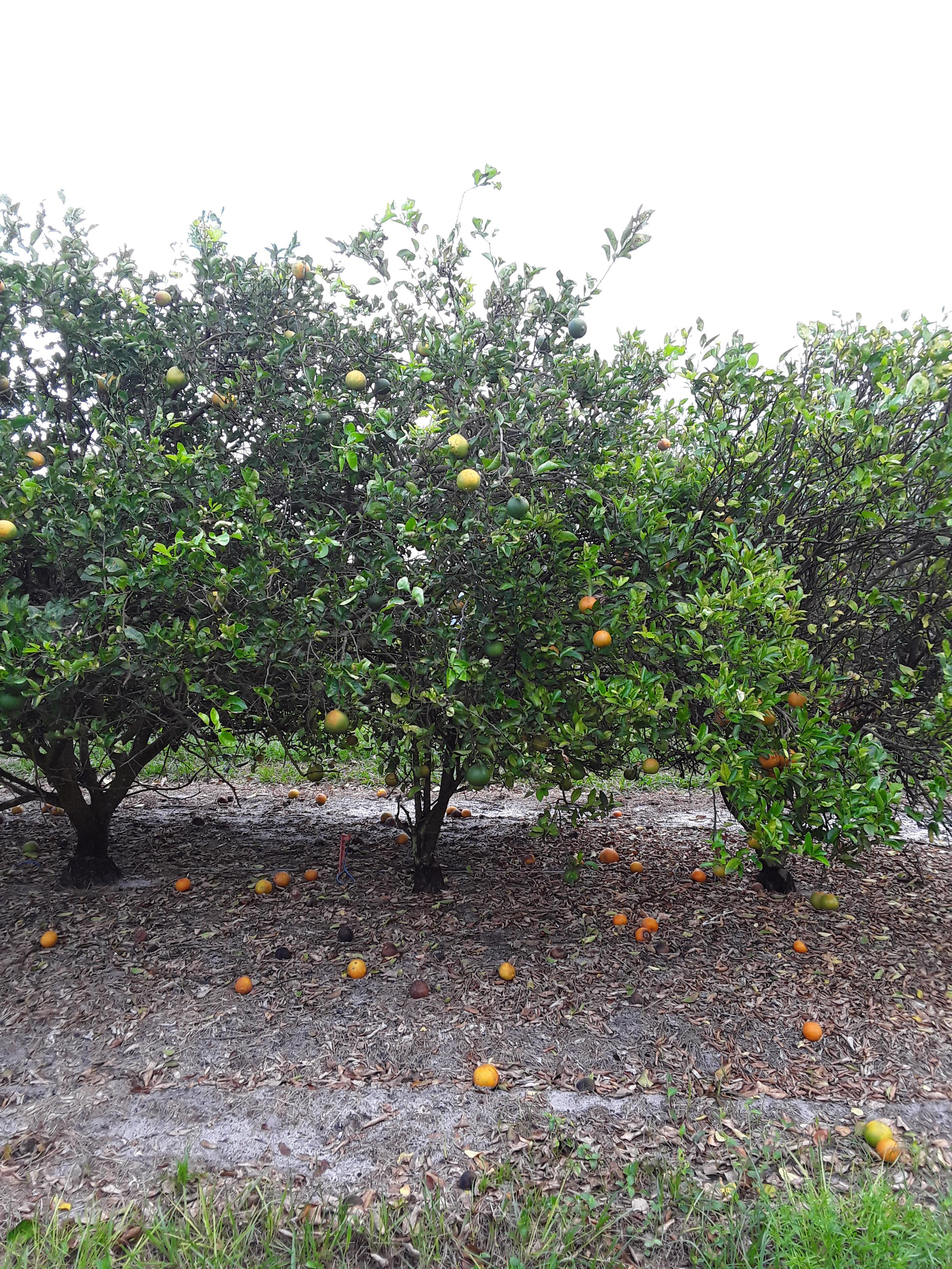fruit_on_ground: (322, 707, 350, 736), (94, 368, 123, 395), (445, 432, 472, 460), (505, 493, 532, 521), (772, 746, 800, 772), (454, 467, 482, 493), (710, 702, 738, 727), (465, 762, 491, 788), (287, 257, 313, 282), (164, 364, 189, 390), (343, 367, 368, 392), (212, 388, 239, 411), (1, 689, 25, 714), (21, 447, 47, 470), (754, 749, 782, 770), (577, 593, 601, 616), (0, 516, 19, 544), (567, 316, 590, 339), (483, 637, 506, 660), (447, 595, 469, 616), (744, 829, 766, 850), (412, 336, 434, 357), (591, 628, 614, 648), (819, 892, 840, 913), (151, 288, 173, 308), (532, 334, 554, 354), (365, 591, 386, 611), (530, 733, 551, 753), (758, 707, 779, 727), (640, 755, 661, 775), (786, 689, 807, 709), (209, 387, 229, 407), (809, 890, 829, 910), (373, 376, 392, 396), (314, 407, 334, 426), (306, 764, 325, 783), (659, 555, 679, 573), (567, 763, 587, 781), (655, 435, 673, 452), (0, 372, 12, 395), (383, 770, 399, 787), (415, 762, 432, 778), (721, 512, 737, 528), (712, 862, 728, 878), (623, 766, 639, 781), (558, 777, 574, 792), (0, 274, 10, 296), (345, 734, 360, 748), (254, 752, 265, 762)
fruit_on_tree: (861, 1117, 894, 1148), (471, 1061, 500, 1090), (875, 1137, 903, 1163), (344, 956, 369, 981), (800, 1018, 824, 1044), (457, 1169, 479, 1192), (496, 959, 518, 982), (573, 1073, 597, 1094), (233, 974, 255, 996), (38, 928, 60, 949), (409, 979, 430, 1000), (336, 924, 356, 944), (598, 846, 620, 864), (379, 940, 400, 958), (273, 944, 293, 962), (21, 838, 40, 856), (640, 915, 659, 933), (255, 877, 274, 895), (173, 875, 192, 892), (791, 937, 809, 954), (654, 940, 672, 956), (273, 870, 291, 886), (131, 926, 148, 942), (634, 926, 651, 942), (691, 867, 708, 883), (612, 912, 628, 927), (303, 867, 319, 882), (521, 852, 537, 866), (629, 859, 644, 873), (395, 830, 409, 844), (380, 811, 395, 824), (749, 881, 764, 894), (286, 787, 301, 799), (10, 803, 25, 815), (314, 792, 329, 804), (375, 786, 388, 799), (444, 804, 458, 816), (191, 815, 206, 826), (51, 804, 64, 816), (460, 806, 472, 818), (216, 794, 229, 805), (40, 803, 52, 814), (611, 808, 624, 818), (450, 809, 462, 819), (384, 816, 396, 826)
